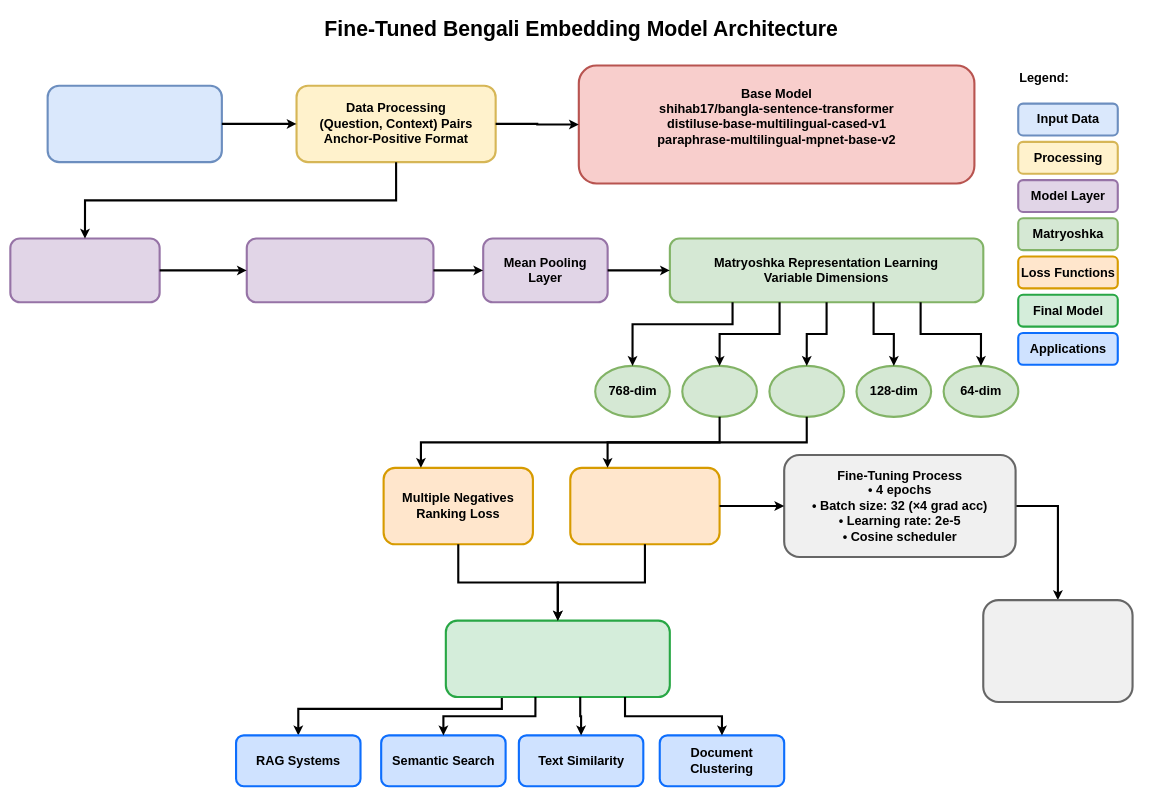
This 1164x808 diagram has some shape labels left out. The centre of each missing label's shape, as x and y in pixels:
"256-dim" belongs at point (806, 391).
"512-dim" belongs at point (719, 391).
"Bengali QA Dataset (Train + Validation)" belongs at point (134, 123).
"Bengali Tokenizer (BERT-based)" belongs at point (84, 270).
"Evaluation Metrics • NDCG@10 • MRR@10 • MAP@100 • Accuracy@k" belongs at point (1057, 651).
"Fine-Tuned Bengali Embedding Model (Optimized for Retrieval)" belongs at point (558, 658).
"Matryoshka Loss (Multi-dimensional)" belongs at point (644, 506).
"Transformer Encoder (12 layers, 768 hidden)" belongs at point (339, 270).
